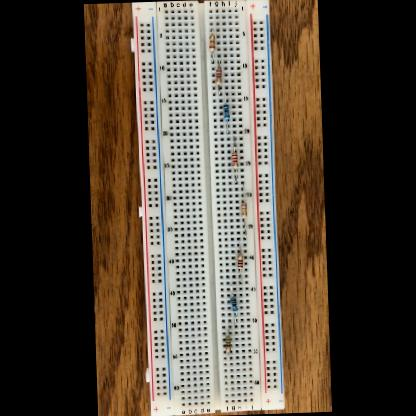breadboard: (130, 0, 285, 416)
resistor: (215, 68, 222, 85), (209, 36, 216, 52), (231, 152, 238, 168), (231, 298, 238, 312), (224, 336, 230, 351), (224, 105, 230, 120), (241, 203, 247, 218), (238, 254, 244, 268)
wire: (243, 218, 246, 239), (233, 132, 236, 152), (234, 313, 238, 327), (242, 184, 245, 202), (225, 120, 228, 135), (232, 283, 235, 297), (235, 168, 237, 184), (238, 239, 240, 253), (240, 269, 242, 283), (228, 327, 231, 336), (228, 352, 231, 360), (225, 92, 227, 104), (212, 52, 214, 63), (219, 84, 221, 95), (218, 60, 220, 68), (211, 30, 212, 35)
